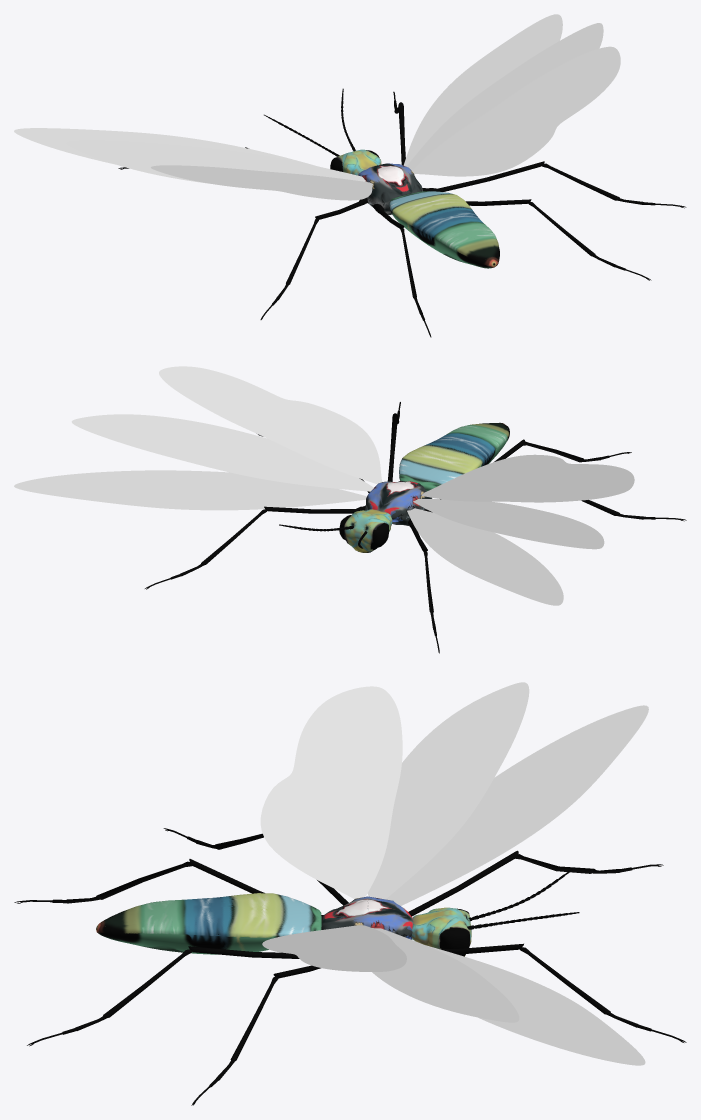
File: libelula1.fbx
3 renders of one model, top to bottom at view 1: azimuth 30°, elevation 25°; view 2: azimuth 150°, elevation 25°; view 3: azimuth 270°, elevation 25°, orthographic. The views are drawn at different scales.
Parts seen in each view (by area): view 1: pata; view 2: pata; view 3: pata.
Part boxes in pixels (<box>): pata: <box>14,14,686,337</box>; pata: <box>14,366,686,653</box>; pata: <box>14,682,686,1105</box>.
Bounding box in the file's own units: 2246 × 425 × 1869.
Materials: 10 (3 with a texture image).
